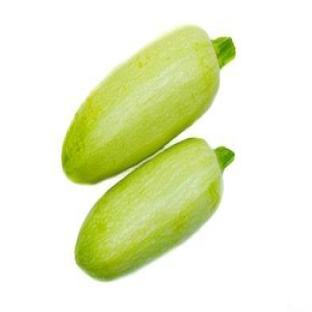Zucchini: (62, 27, 234, 182), (76, 138, 234, 279)
